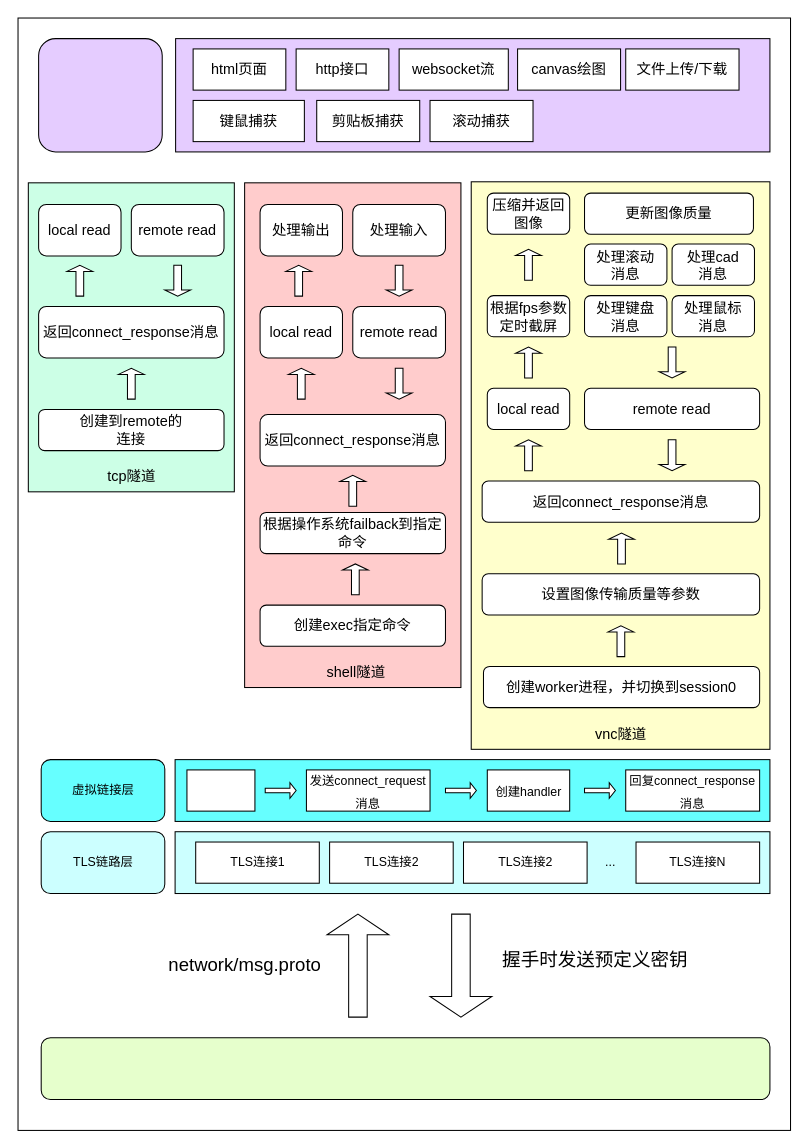
The diagram is 809 pixels wide and 1148 high, and some of its shapes have lost their labels. The centre of each missing label's shape, as x and y in pixels:
"展现层" belongs at (100,95).
"服务端" belongs at (405,1068).
"用户触发" belongs at (220,790).
